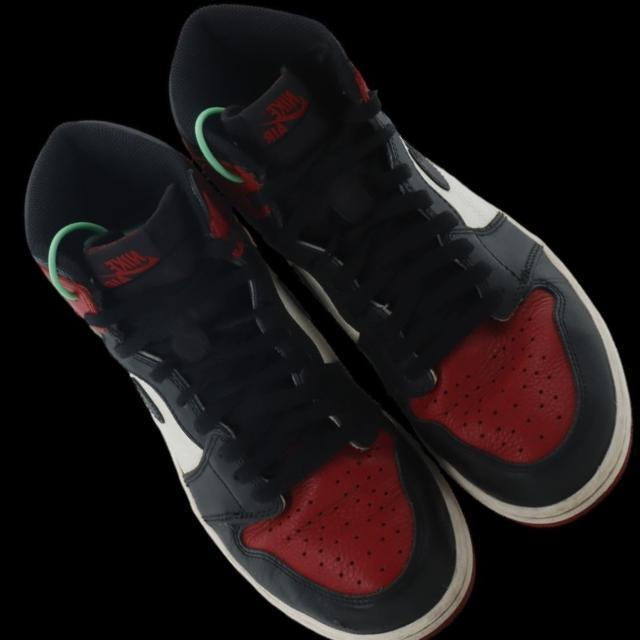nike original jordan 1: (109, 0, 640, 569), (0, 75, 526, 640)
